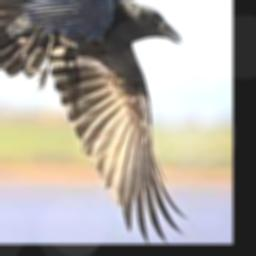Crow: (0, 0, 188, 243)
